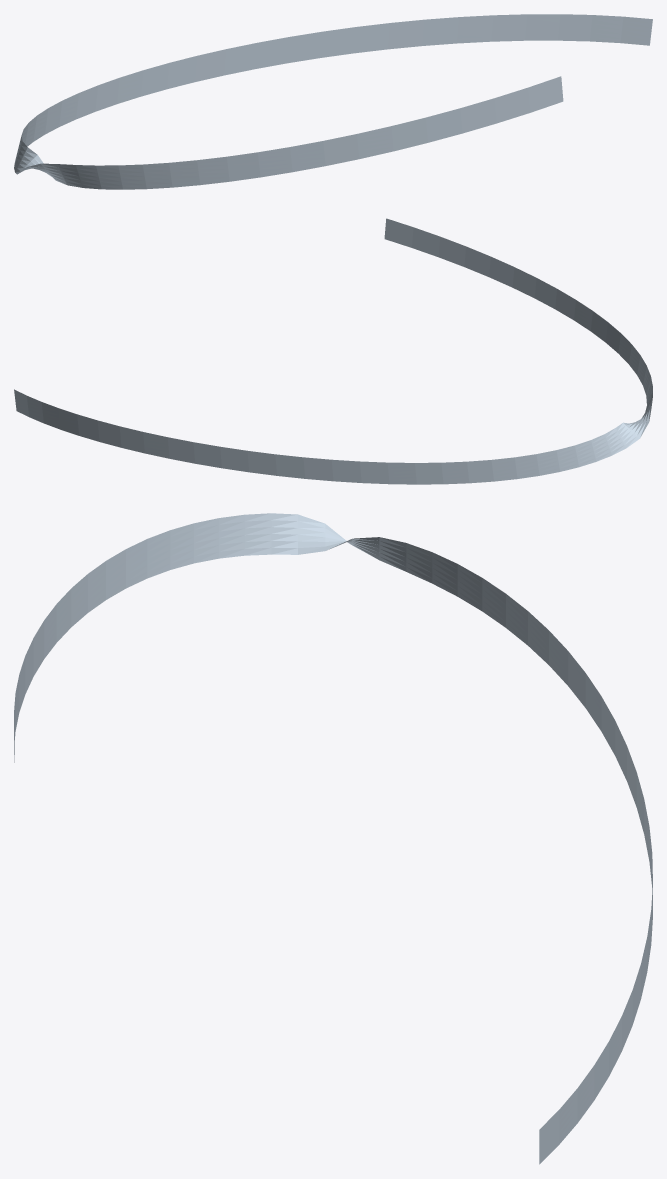
The model's file is 2084_WateryRebirth_Overall_OwnRebirthFlow_1.fbx.
3 views of the same model, one above another, from view 1: azimuth 30°, elevation 25°; view 2: azimuth 150°, elevation 25°; view 3: azimuth 270°, elevation 25° (orthographic). The views are drawn at different scales.
Parts seen in each view (by area): view 1: PART_Hydro_OwnRebirthFlow_1; view 2: PART_Hydro_OwnRebirthFlow_1; view 3: PART_Hydro_OwnRebirthFlow_1.
Part boxes in pixels (left/top/right/bottom): PART_Hydro_OwnRebirthFlow_1: left=14, top=14, right=652, bottom=189; PART_Hydro_OwnRebirthFlow_1: left=14, top=218, right=652, bottom=484; PART_Hydro_OwnRebirthFlow_1: left=14, top=513, right=652, bottom=1164.
Bounding box in the file's own units: 198 × 45.36 × 108.
